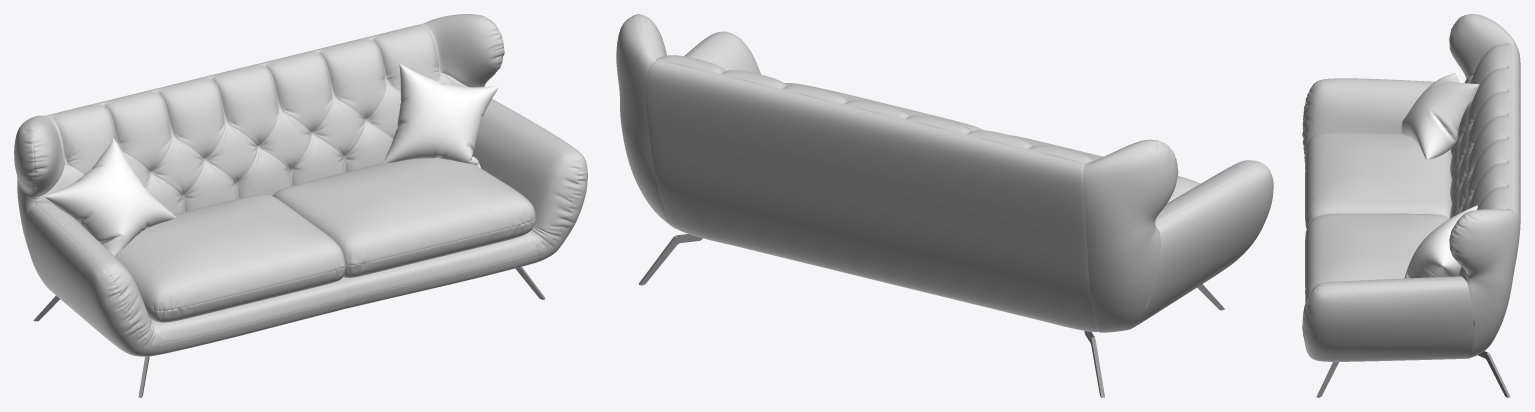
File: Sofa Test2.glb
3 views of the same model, side by side, from view 1: azimuth 30°, elevation 25°; view 2: azimuth 150°, elevation 25°; view 3: azimuth 270°, elevation 25° (orthographic). The views are drawn at different scales.
Parts seen in each view (by area): view 1: Sherwood_Sofa_1, podushki; view 2: Sherwood_Sofa_1; view 3: Sherwood_Sofa_1, podushki.
Part boxes in pixels (box(x1,y1,x2,y2)): Sherwood_Sofa_1: box(14, 14, 587, 397); podushki: box(44, 63, 499, 255); Sherwood_Sofa_1: box(616, 14, 1273, 397); Sherwood_Sofa_1: box(1302, 14, 1520, 397); podushki: box(1401, 73, 1479, 278).
Size of the model in its own units: 2.24 by 0.9327 by 0.9488.
5 materials, 1 textured.
